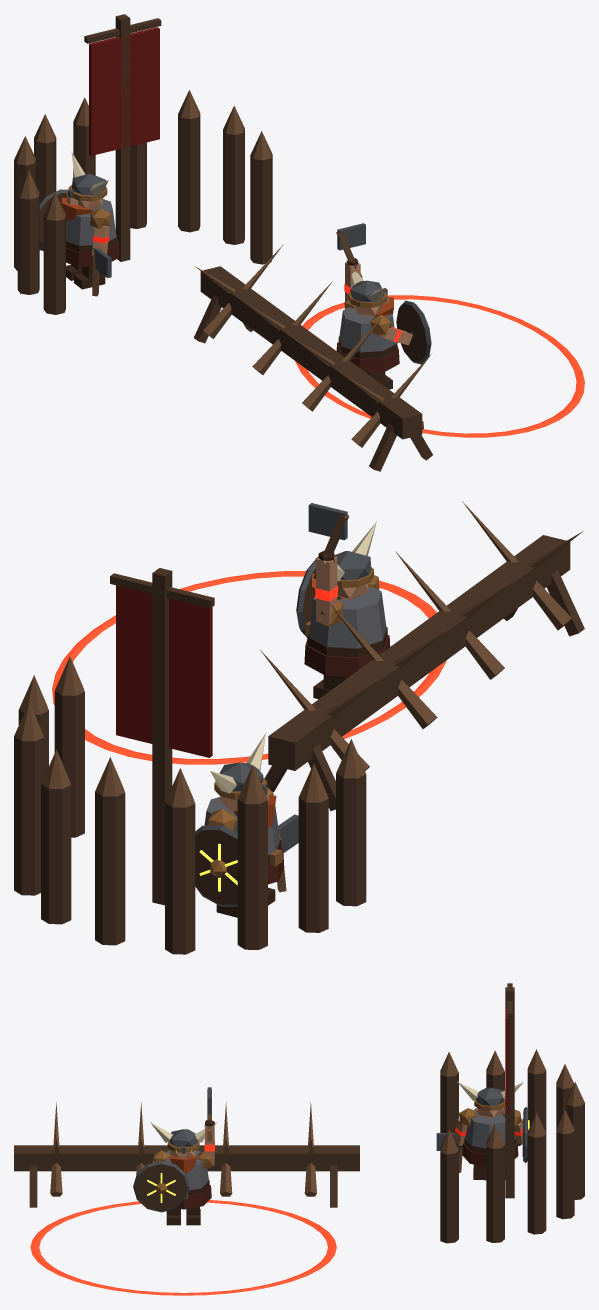
Rendered from berserker_camp_lvl1.glb.
3 views of the same model, one above another, from view 1: azimuth 30°, elevation 25°; view 2: azimuth 150°, elevation 25°; view 3: azimuth 270°, elevation 25° (orthographic). The views are drawn at different scales.
Parts seen in each view (by area): view 1: Banner, Barricade_Log0, BannerPole, RageAura, Palisade_2, Palisade_1, Palisade_0, Palisade_7, Palisade_8, Berserker_F0_Body, Palisade_3, Palisade_5 (+12 smaller); view 2: Barricade_Log0, Banner, BannerPole, Palisade_4, Palisade_5, Palisade_6, Palisade_2, Palisade_3, Palisade_7, RageAura, Palisade_8, Palisade_0 (+25 smaller); view 3: Barricade_Log0, RageAura, Palisade_2, Palisade_1, Berserker_F0_ShieldDisc, Palisade_0, BannerPole, Palisade_3, Palisade_4, Palisade_8, Palisade_6, Berserker_I0_Body (+9 smaller).
Part boxes in pixels (x1=…): Banner: x1=89, y1=27, x2=159, y2=155; Barricade_Log0: x1=200, y1=266, x2=422, y2=439; BannerPole: x1=115, y1=14, x2=130, y2=261; RageAura: x1=295, y1=295, x2=584, y2=437; Palisade_2: x1=178, y1=114, x2=200, y2=232; Palisade_1: x1=223, y1=130, x2=244, y2=244; Palisade_0: x1=250, y1=155, x2=272, y2=264; Palisade_7: x1=17, y1=194, x2=39, y2=294; Palisade_8: x1=43, y1=216, x2=65, y2=314; Berserker_F0_Body: x1=339, y1=307, x2=396, y2=352; Palisade_3: x1=130, y1=142, x2=146, y2=228; Palisade_5: x1=34, y1=137, x2=56, y2=250; Barricade_Log0: x1=268, y1=535, x2=570, y2=770; Banner: x1=116, y1=585, x2=212, y2=757; BannerPole: x1=152, y1=568, x2=172, y2=905; Palisade_4: x1=95, y1=792, x2=125, y2=945; Palisade_5: x1=165, y1=803, x2=195, y2=954; Palisade_6: x1=237, y1=800, x2=267, y2=949; Palisade_2: x1=14, y1=736, x2=44, y2=895; Palisade_3: x1=41, y1=784, x2=71, y2=924; Palisade_7: x1=298, y1=798, x2=328, y2=932; RageAura: x1=52, y1=571, x2=446, y2=764; Palisade_8: x1=336, y1=773, x2=366, y2=906; Palisade_0: x1=54, y1=691, x2=84, y2=837; Barricade_Log0: x1=14, y1=1145, x2=359, y2=1171; RageAura: x1=30, y1=1200, x2=336, y2=1295; Palisade_2: x1=527, y1=1134, x2=546, y2=1234; Palisade_1: x1=486, y1=1145, x2=504, y2=1242; Berserker_F0_ShieldDisc: x1=135, y1=1164, x2=187, y2=1210; Palisade_0: x1=440, y1=1150, x2=458, y2=1243; BannerPole: x1=505, y1=987, x2=514, y2=1198; Palisade_3: x1=556, y1=1130, x2=574, y2=1219; Palisade_4: x1=566, y1=1103, x2=584, y2=1199; Palisade_8: x1=440, y1=1073, x2=458, y2=1132; Palisade_6: x1=527, y1=1070, x2=546, y2=1132; Berserker_I0_Body: x1=465, y1=1108, x2=515, y2=1148.
Bounding box in the file's own units: 2.68 × 1.76 × 4.37.
